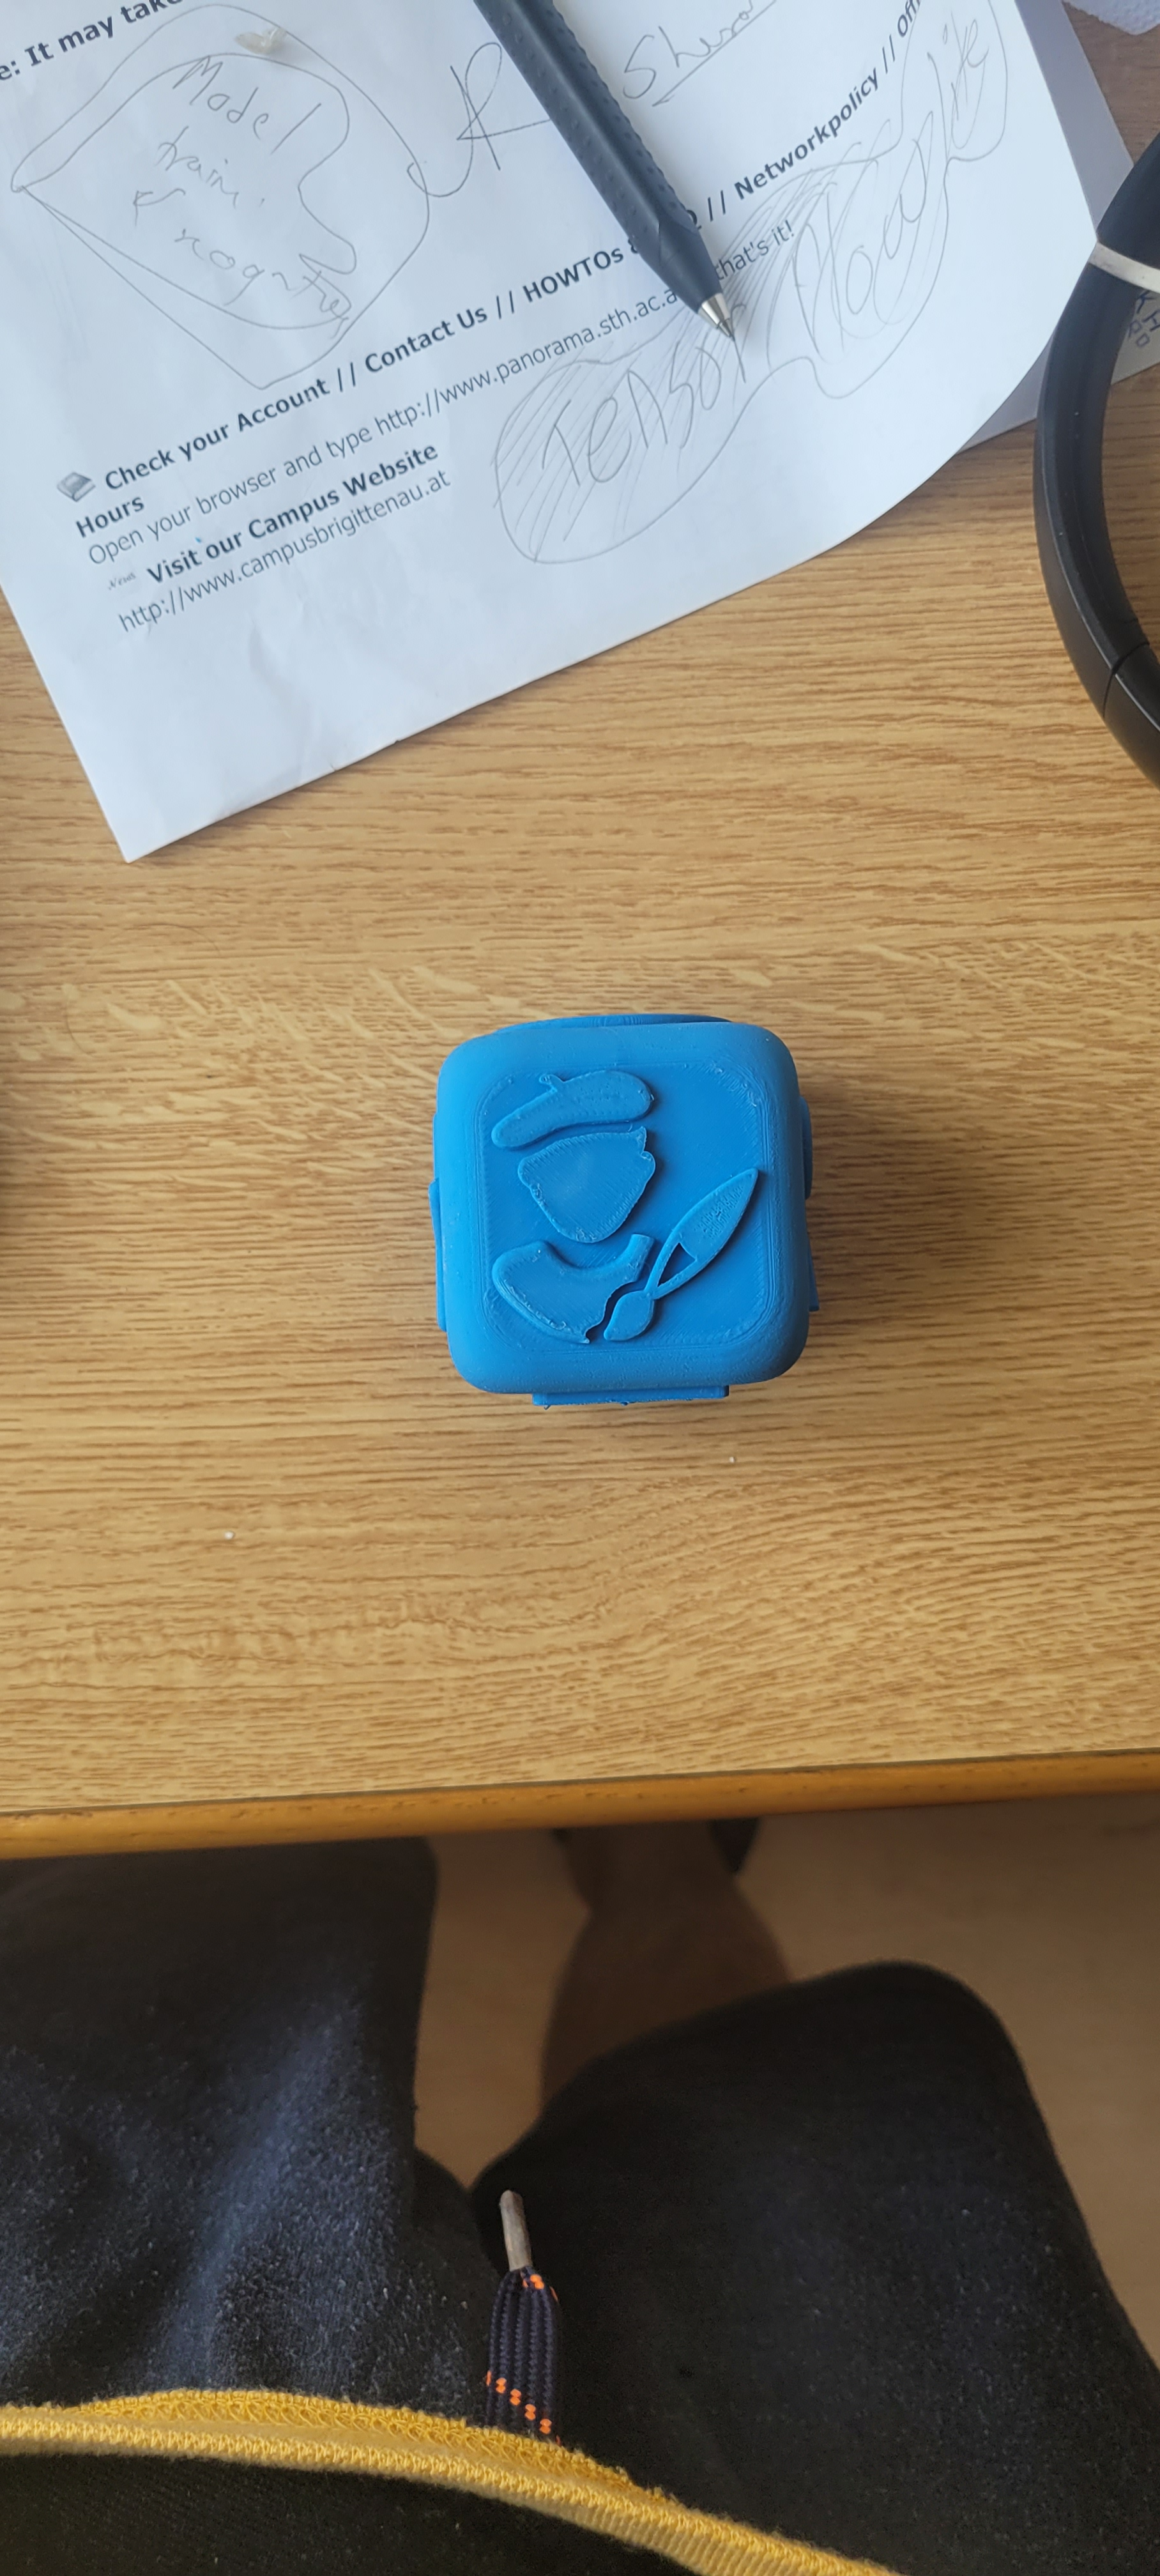Artist_Info: (418, 1008, 803, 1415)
